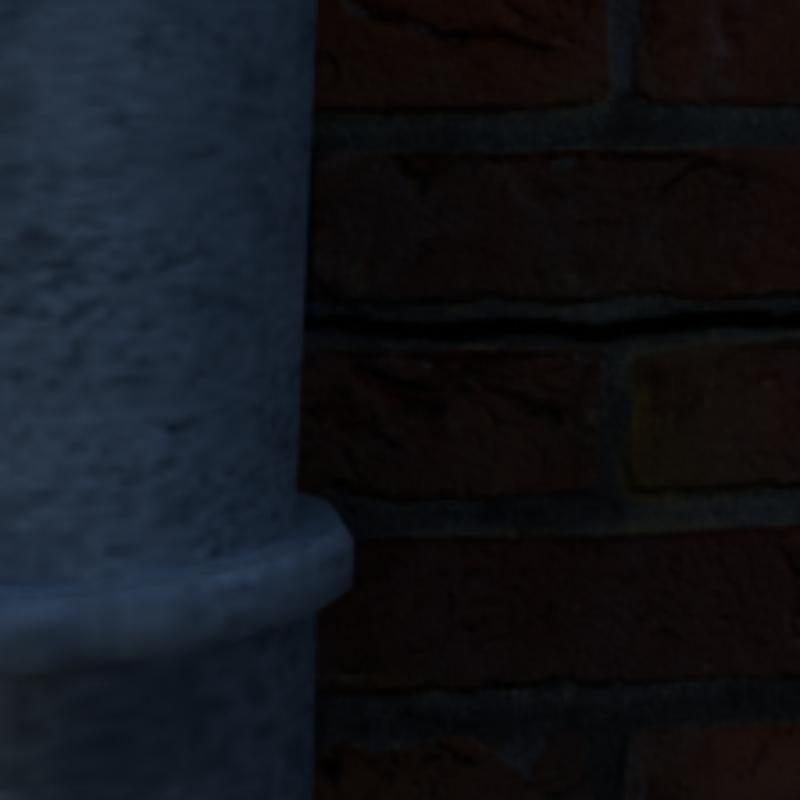pothole: (304, 311, 796, 339)
